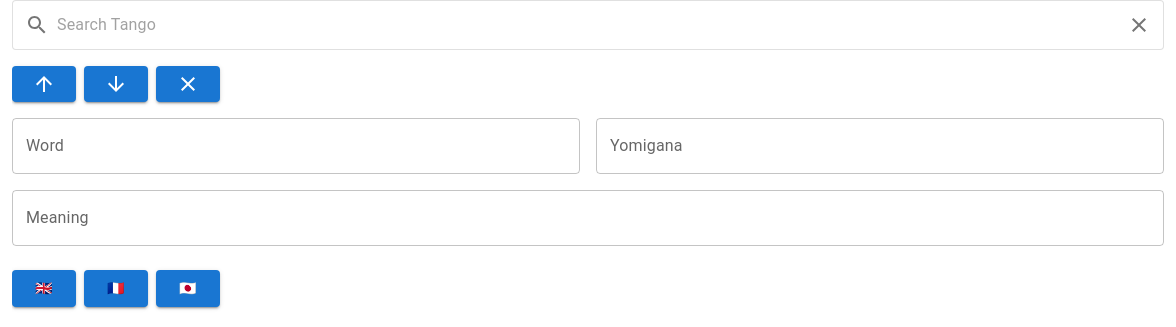
Test case: move down
Type "aaa" into the field with placeholder "Search Tango". click: (588, 25)
box: x1=57 y1=9 x2=1119 y2=41
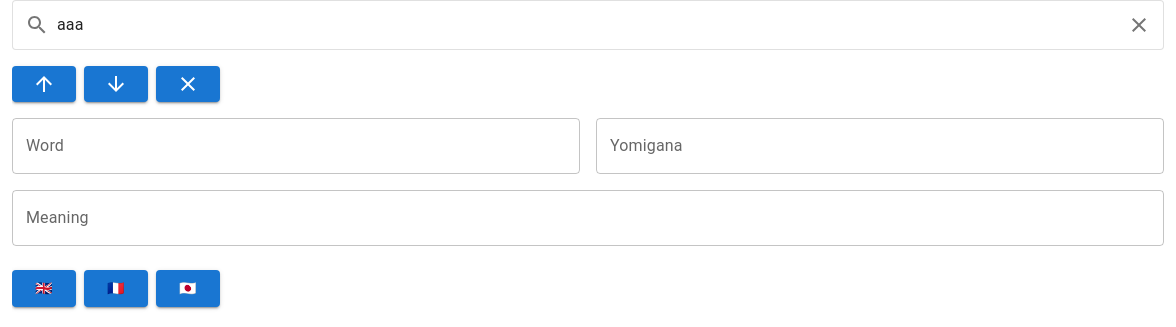
Click the button named "from search". click: (116, 84)
box: x1=84 y1=66 x2=148 y2=102
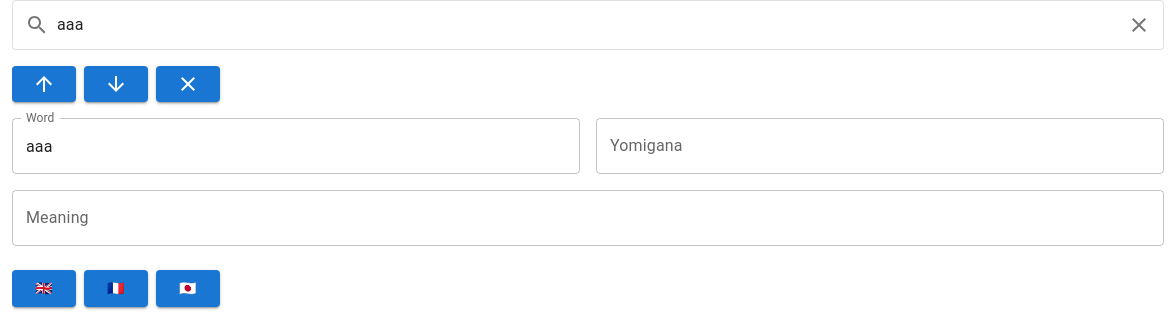
Check: the field labelled "Yomigana" is empty, box x1=596 y1=118 x2=1164 y2=174
Check: the field labelled "Word" holds "aaa", box x1=12 y1=118 x2=580 y2=174
